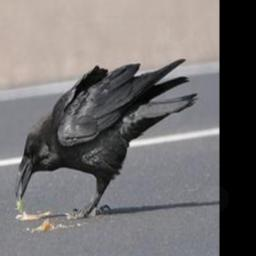Crow: (14, 57, 198, 217)
